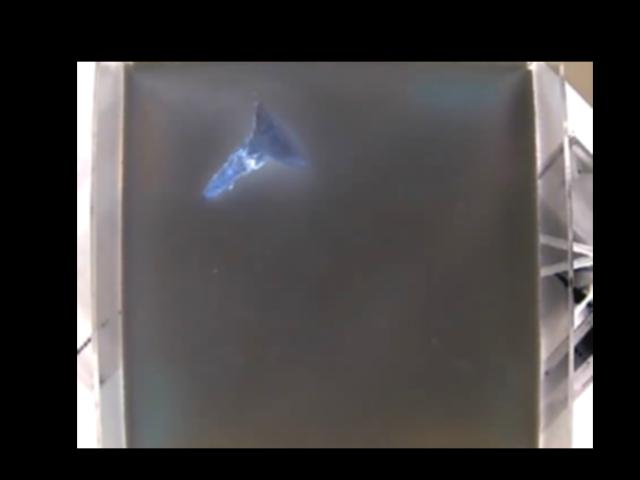Mooli: (202, 98, 310, 202)
